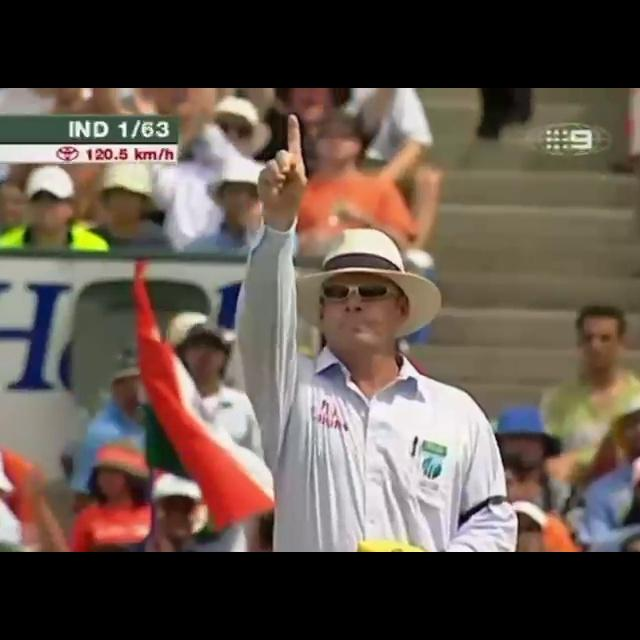umpire: (230, 100, 544, 552)
